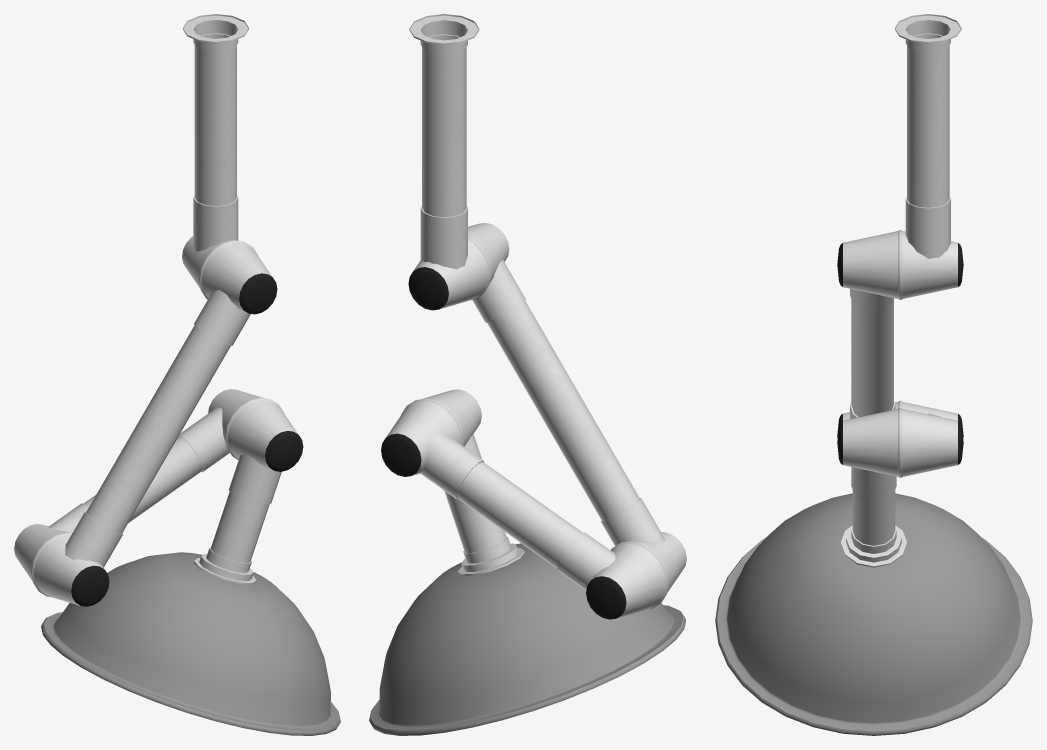
Rendered from SM_吊顶式排气罩_007.fbx.
3 views of the same model, side by side, from view 1: azimuth 30°, elevation 25°; view 2: azimuth 150°, elevation 25°; view 3: azimuth 270°, elevation 25° (orthographic). The views are drawn at different scales.
Visible parts, largest first — view 1: SM_吊顶式排气罩_007; view 2: SM_吊顶式排气罩_007; view 3: SM_吊顶式排气罩_007.
Boxes of the visible parts, x1,y1,x2,y2 form: SM_吊顶式排气罩_007: (14,14,340,735); SM_吊顶式排气罩_007: (369,14,686,735); SM_吊顶式排气罩_007: (715,14,1032,735).
Size of the model in its own units: 74.8 by 174 by 74.46.
